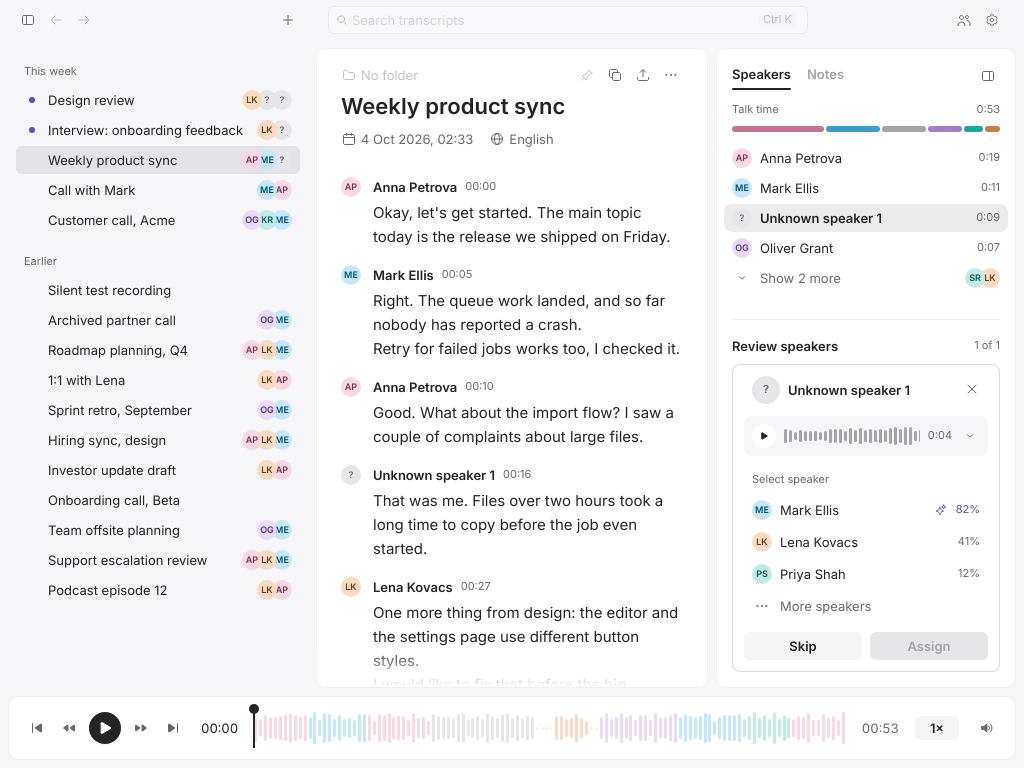
the Notes tab › another recording opens on Speakers
Expected: the heading "Weekly product sync" is shown, top-left (341, 93), bottom-right (565, 121)
What coordinates should you click on to do the following:
click the tab "Notes"
I would click on:
 (826, 77)
Its box is top-left (807, 64), bottom-right (844, 90).
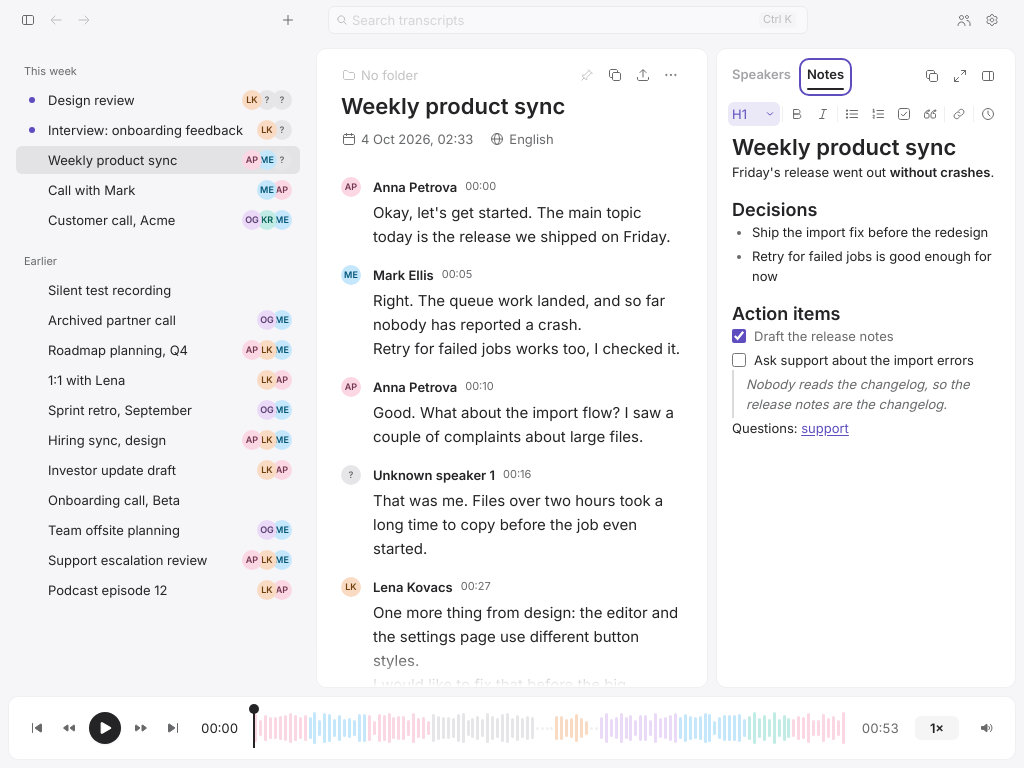
What coordinates should you click on to do the following:
click the button "Design review LK ? ?"
I would click on:
 (91, 100)
Its box is top-left (16, 86), bottom-right (300, 114).
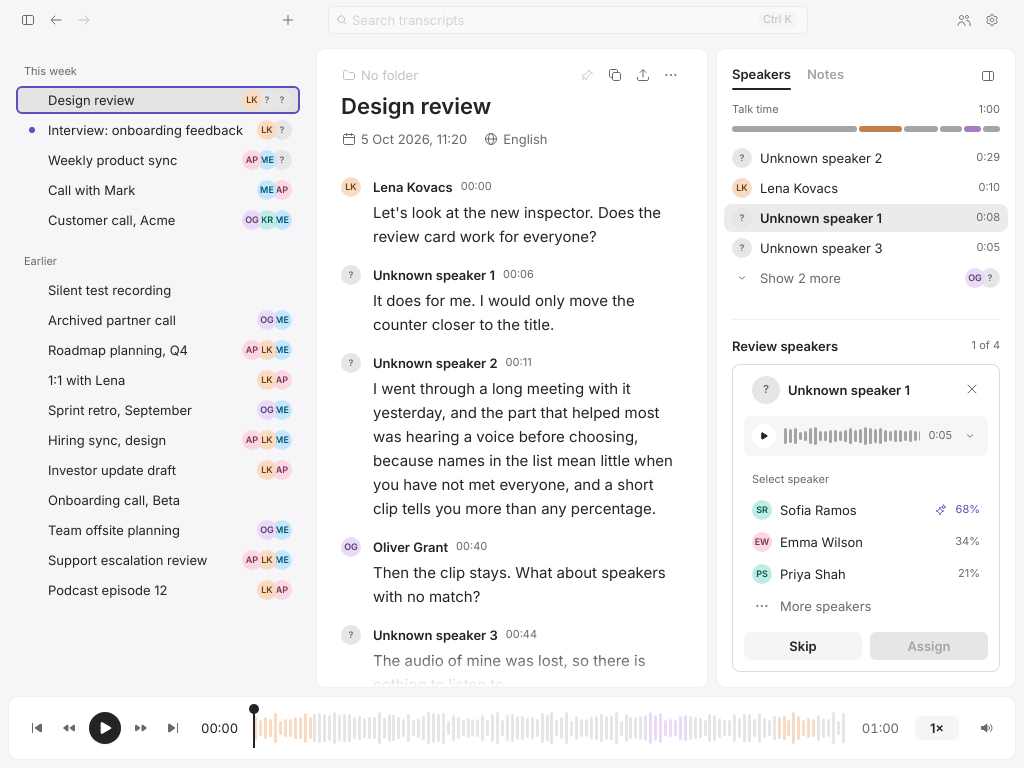
Expected: the heading reads "Design review", top-left (341, 93), bottom-right (491, 121)
